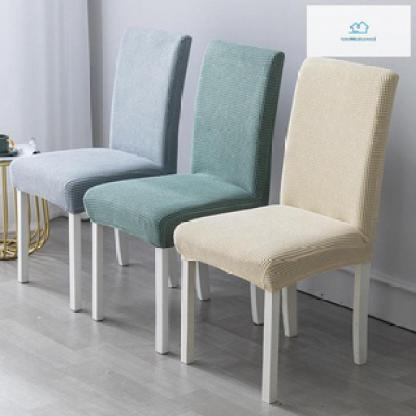chair: (170, 62, 402, 398), (85, 44, 272, 341), (7, 28, 187, 293)
